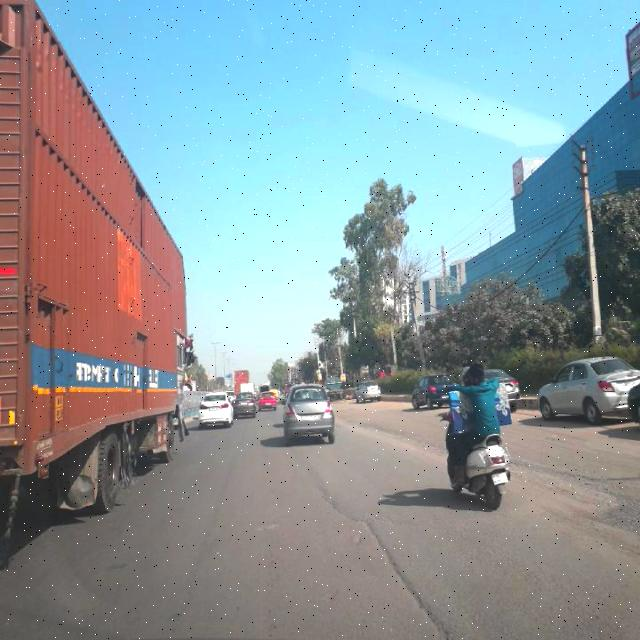D01: (316, 484, 444, 625)
